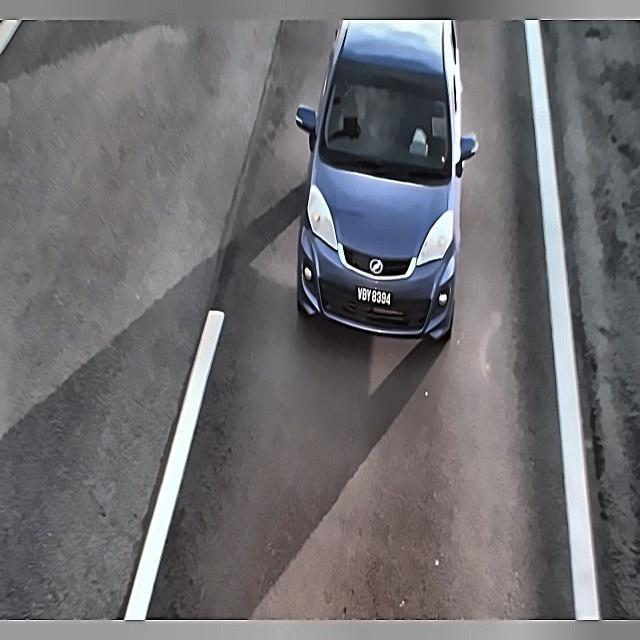car: (348, 278, 394, 316)
